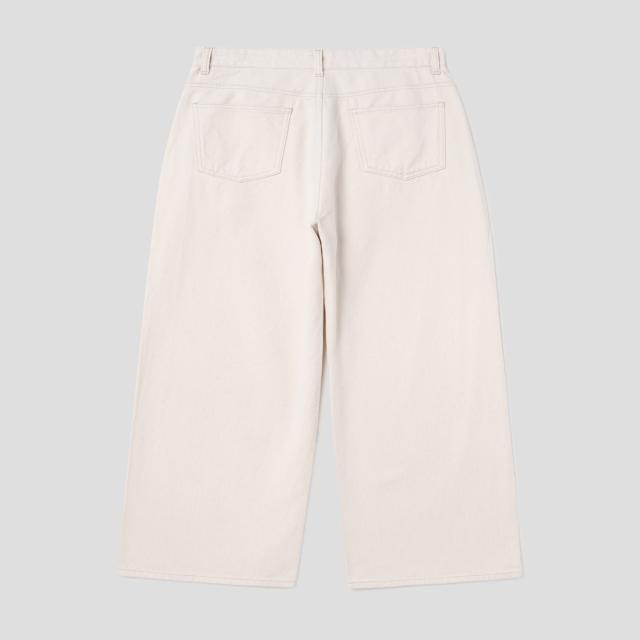long-pants: (116, 46, 525, 595)
